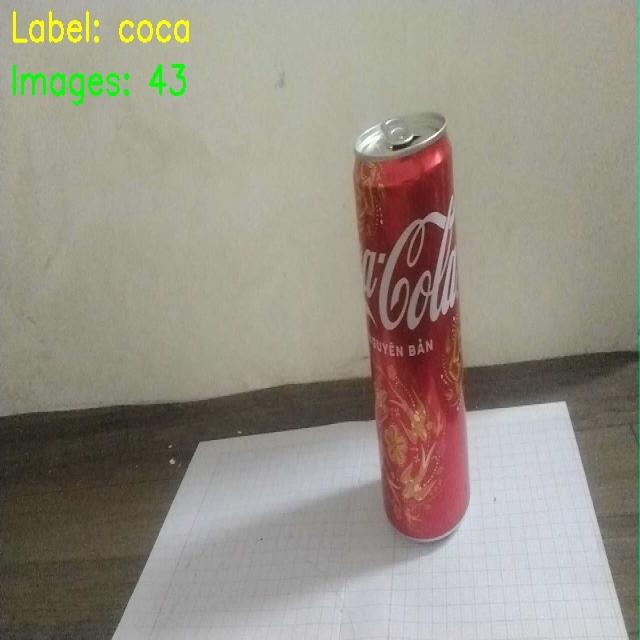Coca: (350, 75, 502, 541)
